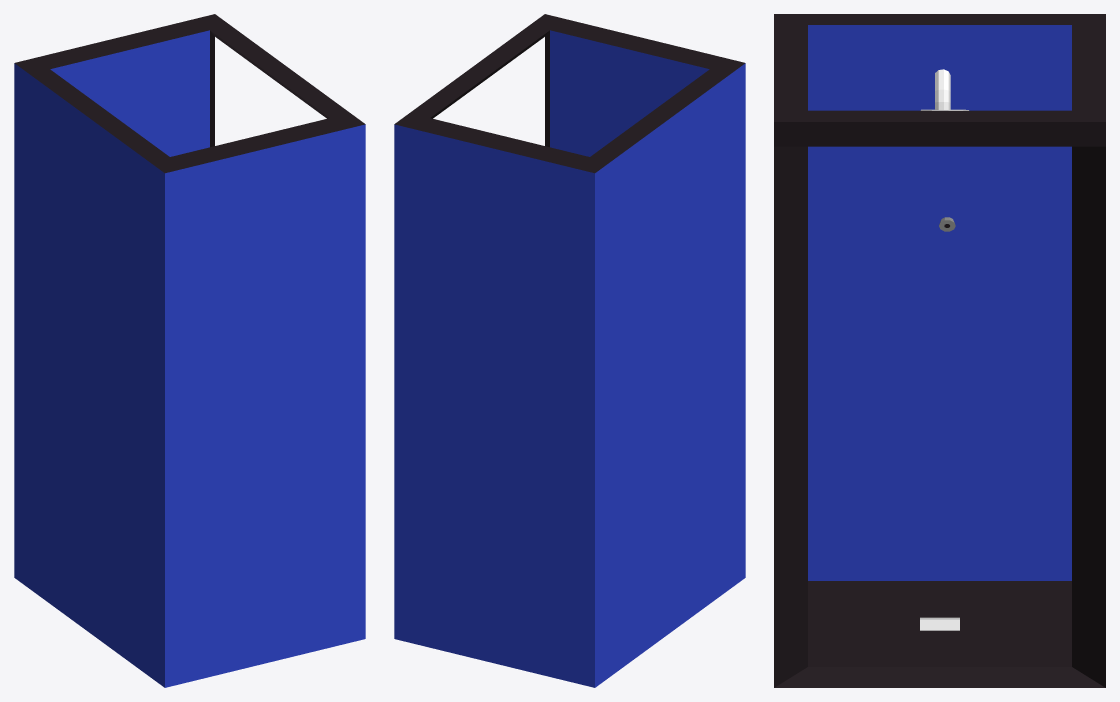
Rendered from boxshower.fbx.
3 renders of one model, left to right at view 1: azimuth 30°, elevation 25°; view 2: azimuth 150°, elevation 25°; view 3: azimuth 270°, elevation 25°, orthographic. The views are drawn at different scales.
Visible parts, largest first — view 1: ShowerBox; view 2: ShowerBox; view 3: ShowerBox, Cylinder.
Part boxes in pixels (left/top/right/bottom): ShowerBox: left=14, top=14, right=365, bottom=687; ShowerBox: left=394, top=14, right=745, bottom=687; ShowerBox: left=774, top=14, right=1105, bottom=687; Cylinder: left=935, top=69, right=950, bottom=109.
Bounding box in the file's own units: 580 × 1420 × 754.
